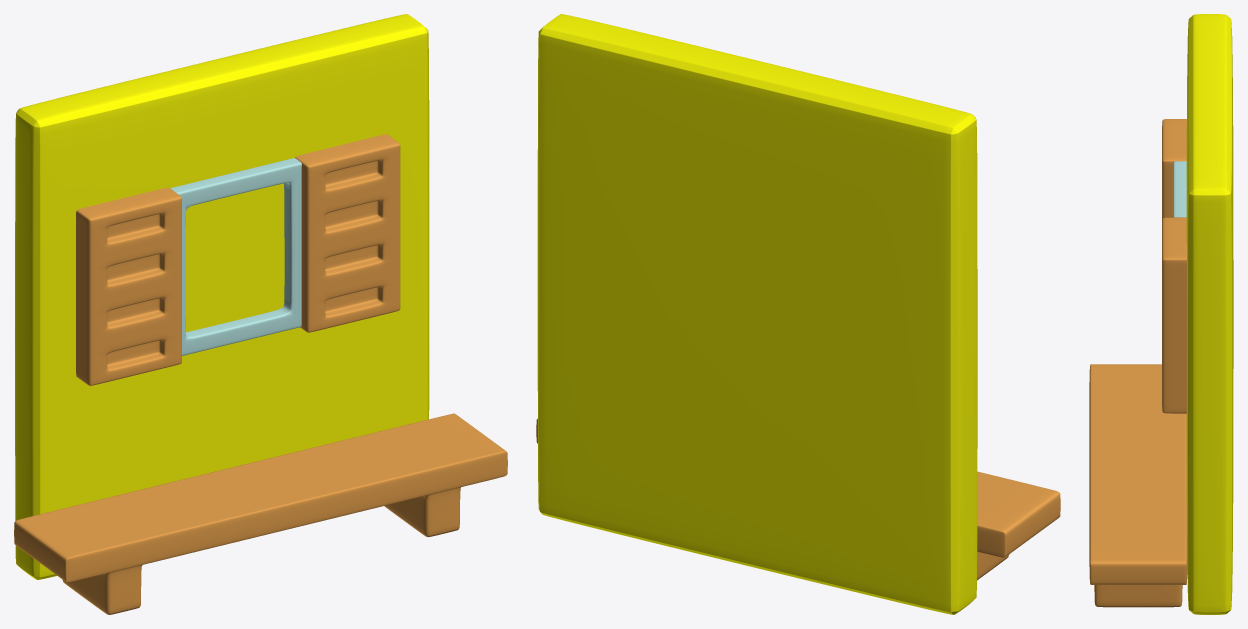
3 renders of one model, left to right at view 1: azimuth 30°, elevation 25°; view 2: azimuth 150°, elevation 25°; view 3: azimuth 270°, elevation 25°, orthographic. The views are drawn at different scales.
Parts seen in each view (by area): view 1: polySurface1190; view 2: polySurface1190; view 3: polySurface1190.
Boxes of the visible parts, x1=… form: polySurface1190: x1=14, y1=14, x2=507, y2=614; polySurface1190: x1=536, y1=14, x2=1060, y2=614; polySurface1190: x1=1089, y1=14, x2=1233, y2=614.
Size of the model in its own units: 0.9998 by 0.9995 by 0.3045.
